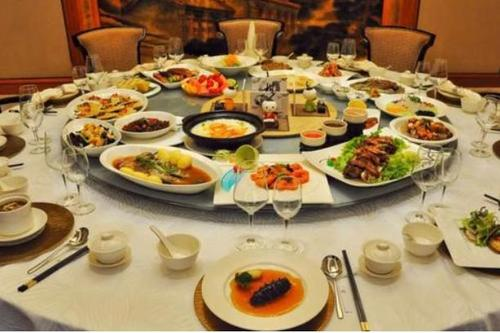food: (102, 137, 218, 197), (317, 129, 422, 186), (186, 100, 260, 152), (64, 85, 147, 123), (143, 55, 228, 91), (388, 110, 457, 154), (246, 155, 317, 194), (63, 114, 122, 157), (450, 203, 498, 249), (169, 64, 234, 96), (118, 106, 175, 142)
